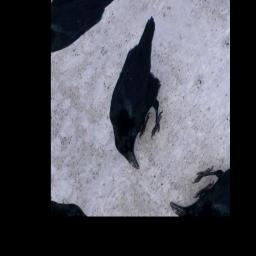Crow: (83, 14, 207, 171)
